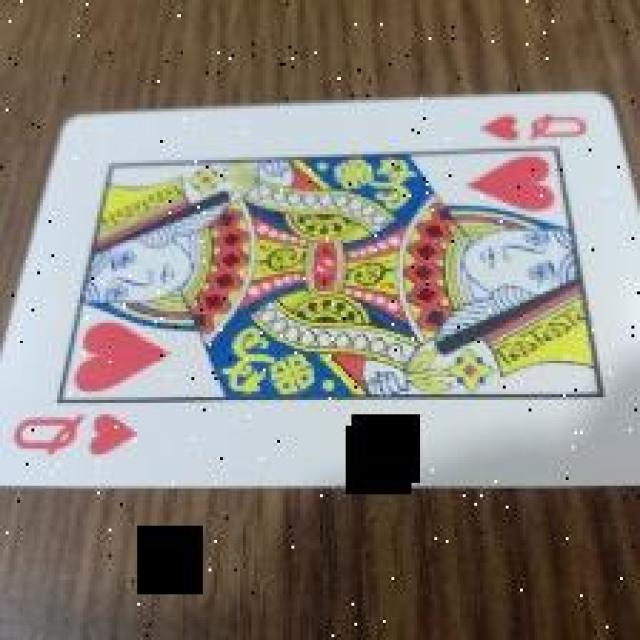Queen of hearts: (5, 89, 640, 485)
